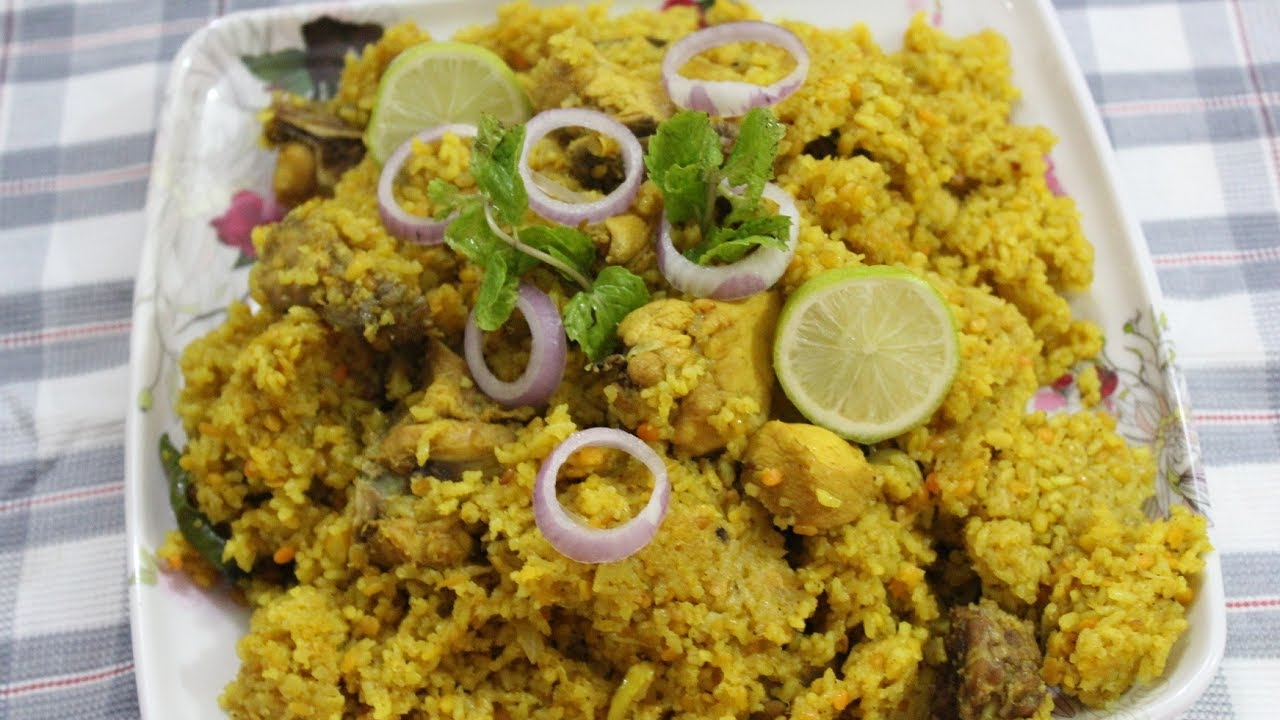khichuri: (210, 17, 1237, 712)
